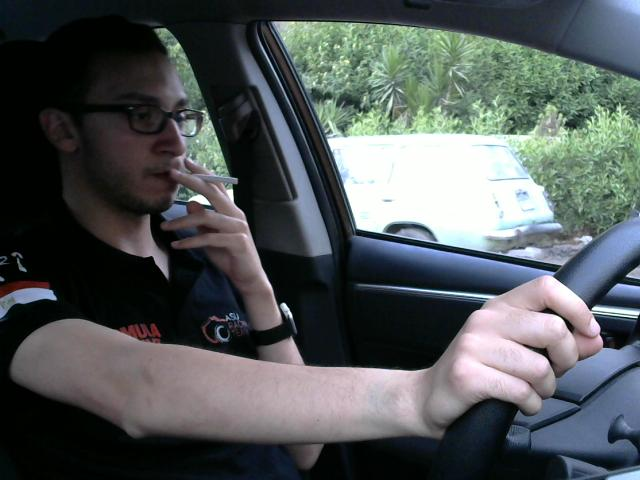Smoking: (167, 163, 246, 191)
